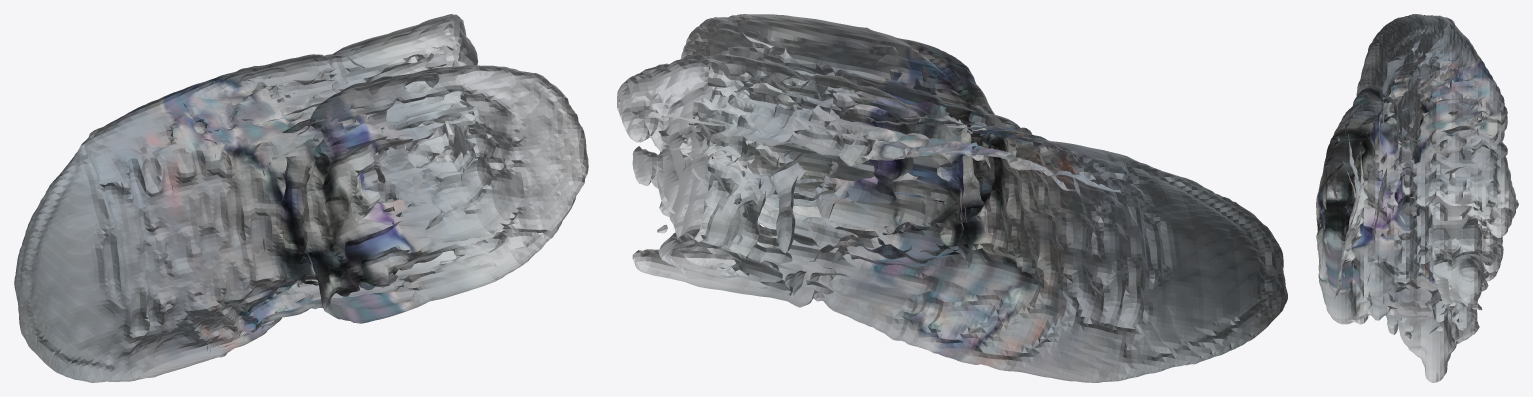
The picture shows the model from 3 angles, left to right: view 1: azimuth 30°, elevation 25°; view 2: azimuth 150°, elevation 25°; view 3: azimuth 270°, elevation 25°; orthographic projection. The views are drawn at different scales.
Parts seen in each view (by area): view 1: world; view 2: world; view 3: world.
Part boxes in pixels (x1=…): world: x1=14, y1=14, x2=588, y2=382; world: x1=617, y1=14, x2=1287, y2=382; world: x1=1316, y1=14, x2=1518, y2=382.
Size of the model in its own units: 0.9948 by 0.4378 by 0.3638.
